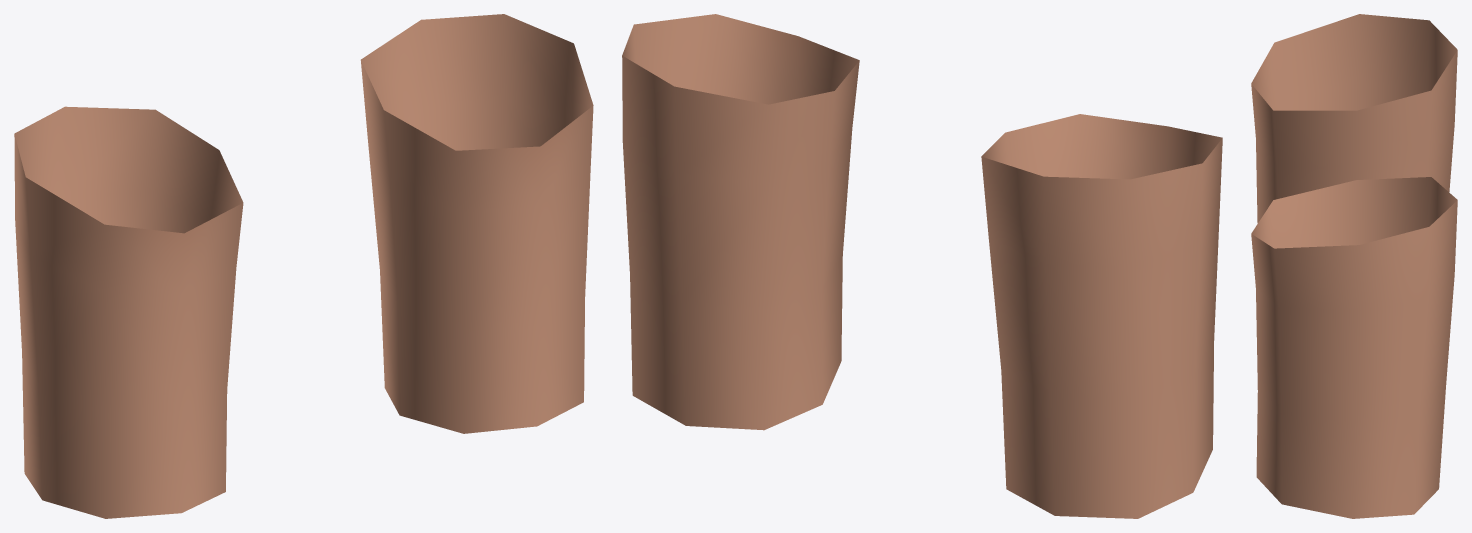
Rendered from Body_Yellow_LegA_2.fbx.
3 renders of one model, left to right at view 1: azimuth 30°, elevation 25°; view 2: azimuth 150°, elevation 25°; view 3: azimuth 270°, elevation 25°, orthographic. The views are drawn at different scales.
Parts seen in each view (by area): view 1: Body_Yellow_LegA_2; view 2: Body_Yellow_LegA_2; view 3: Body_Yellow_LegA_2.
Part boxes in pixels (<box>): Body_Yellow_LegA_2: <box>14,14,593,518</box>; Body_Yellow_LegA_2: <box>622,14,1222,518</box>; Body_Yellow_LegA_2: <box>1251,14,1457,518</box>.
Size of the model in its own units: 31.33 by 18.38 by 11.84.
